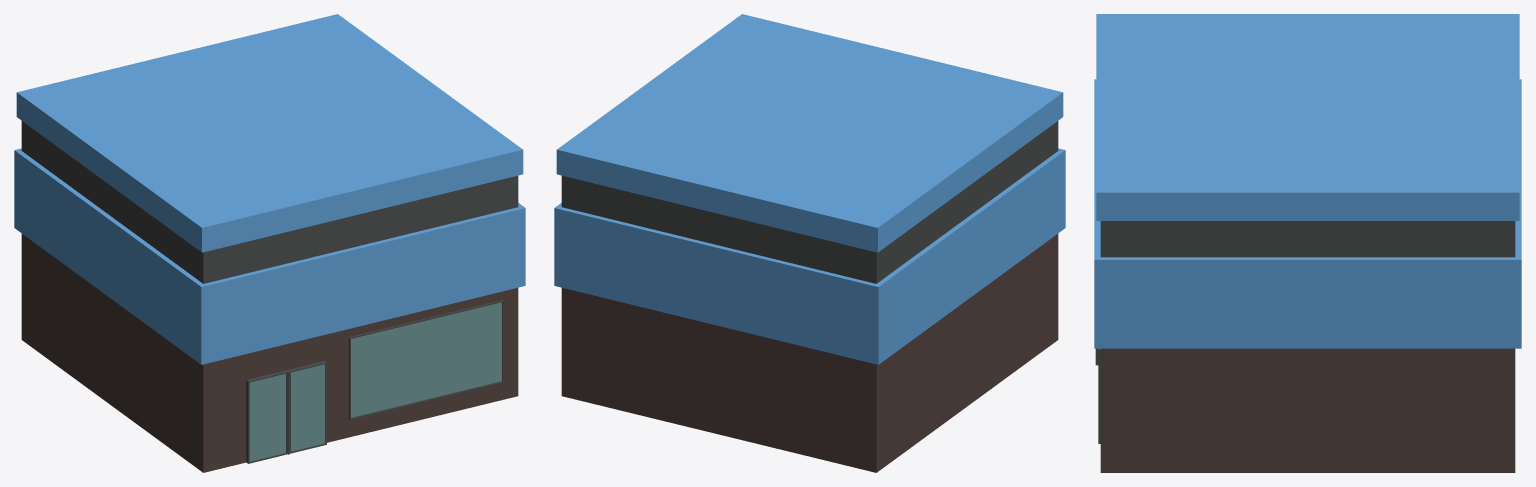
The model's file is Generic_Store_Front.fbx.
3 renders of one model, left to right at view 1: azimuth 30°, elevation 25°; view 2: azimuth 150°, elevation 25°; view 3: azimuth 270°, elevation 25°, orthographic. The views are drawn at different scales.
Visible parts, largest first — view 1: pCube61; view 2: pCube61; view 3: pCube61.
Boxes of the visible parts, <box> form: pCube61: <box>14,14,525,472</box>; pCube61: <box>554,14,1065,472</box>; pCube61: <box>1094,14,1521,472</box>.
Bounding box in the file's own units: 206 × 150 × 206.
